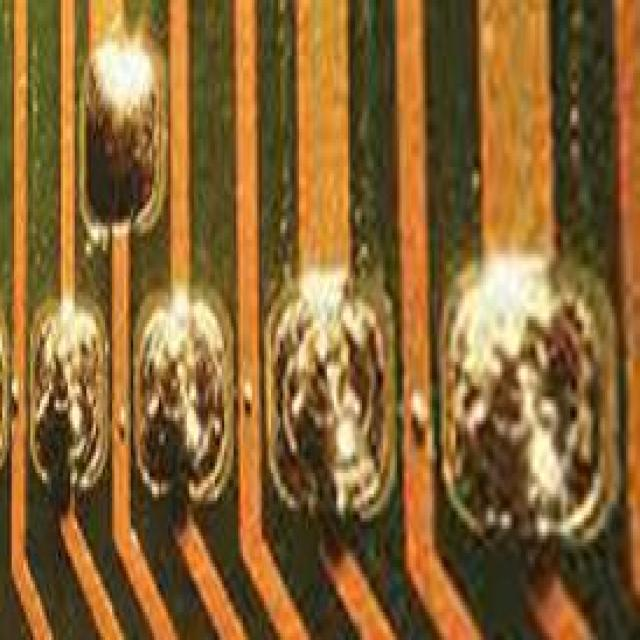redundant: (87, 39, 155, 222)
